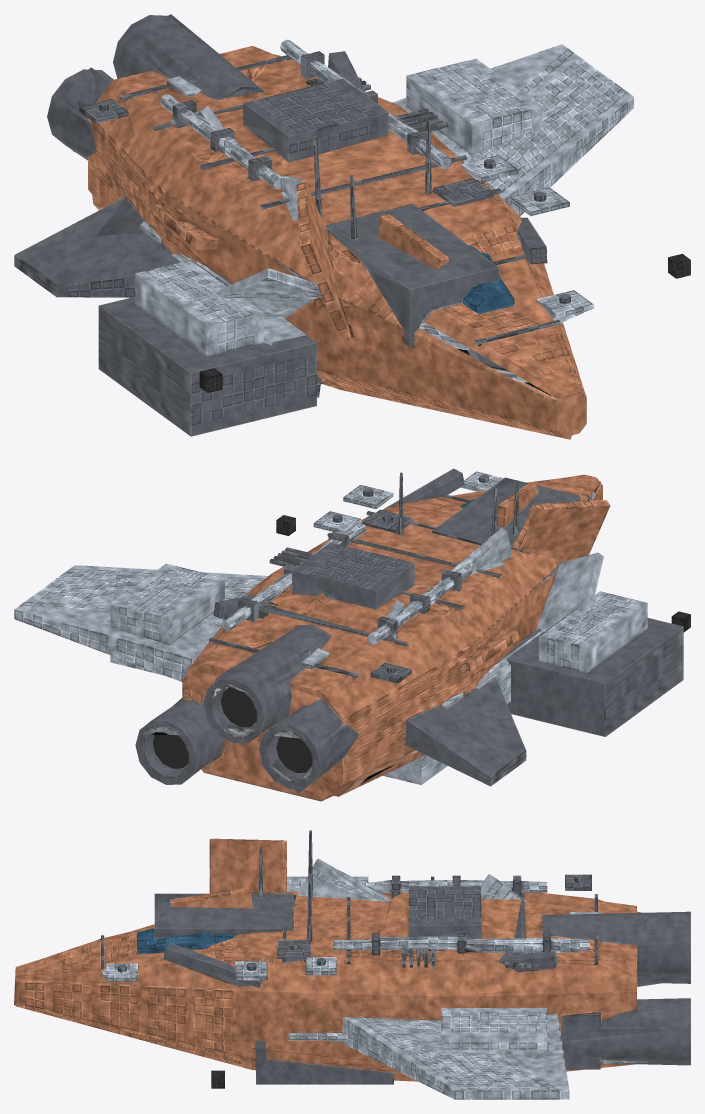
The model's file is sd_npc_reaver.glb.
3 renders of one model, top to bottom at view 1: azimuth 30°, elevation 25°; view 2: azimuth 150°, elevation 25°; view 3: azimuth 270°, elevation 25°, orthographic. The views are drawn at different scales.
Parts seen in each view (by area): view 1: LOD0_body, LOD1_body; view 2: LOD0_body, LOD1_body; view 3: LOD0_body, LOD1_body.
Boxes of the visible parts, x1=… form: LOD0_body: x1=14, y1=15, x2=690, y2=436; LOD1_body: x1=14, y1=14, x2=633, y2=439; LOD0_body: x1=14, y1=468, x2=690, y2=801; LOD1_body: x1=21, y1=477, x2=683, y2=796; LOD0_body: x1=15, y1=830, x2=690, y2=1099; LOD1_body: x1=14, y1=845, x2=690, y2=1092.
Size of the model in its own units: 0.7963 by 0.3329 by 1.
1 material, 1 textured.
